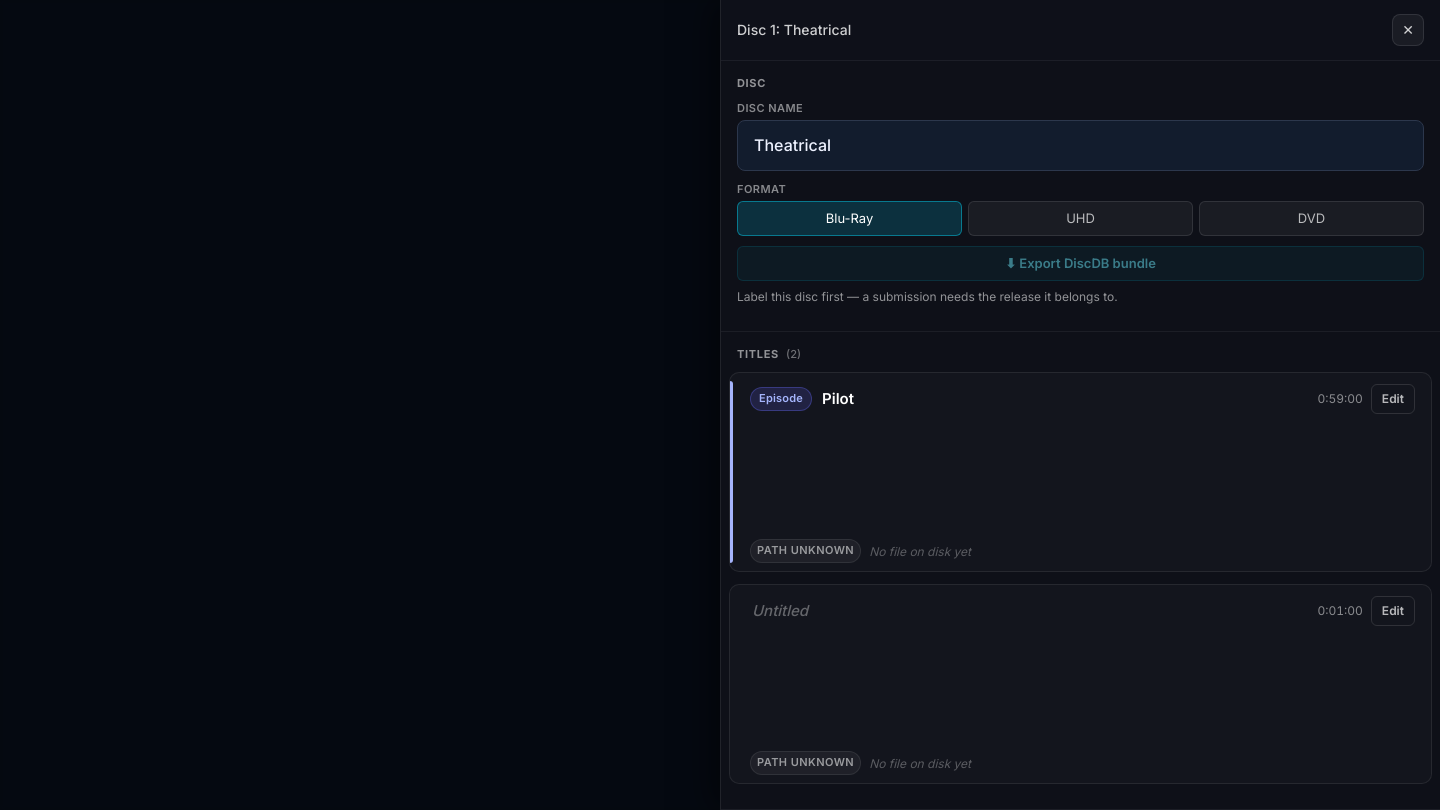
Test: LibraryDiscDrawerComponent (Phase 4) › #601 view/edit toggle › clicking Done collapses back to display mode
The image size is (1440, 810).
Click the button with class "library-disc-drawer__title-edit-btn" next to "0:59:00" at (1393, 399), box [1371, 384, 1415, 413]
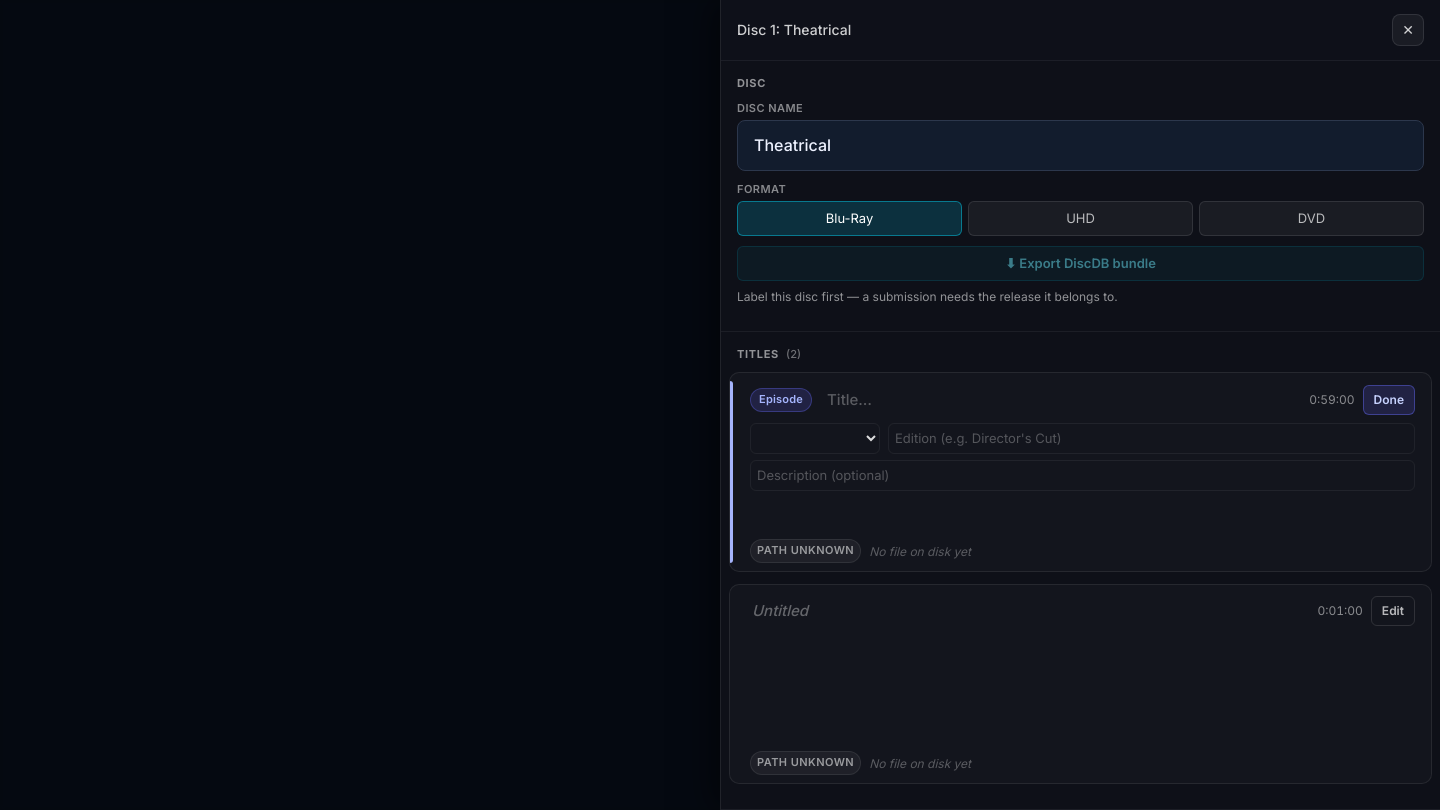
Click the button with class "library-disc-drawer__title-edit-btn--done" at (1389, 400), box [1363, 385, 1415, 414]
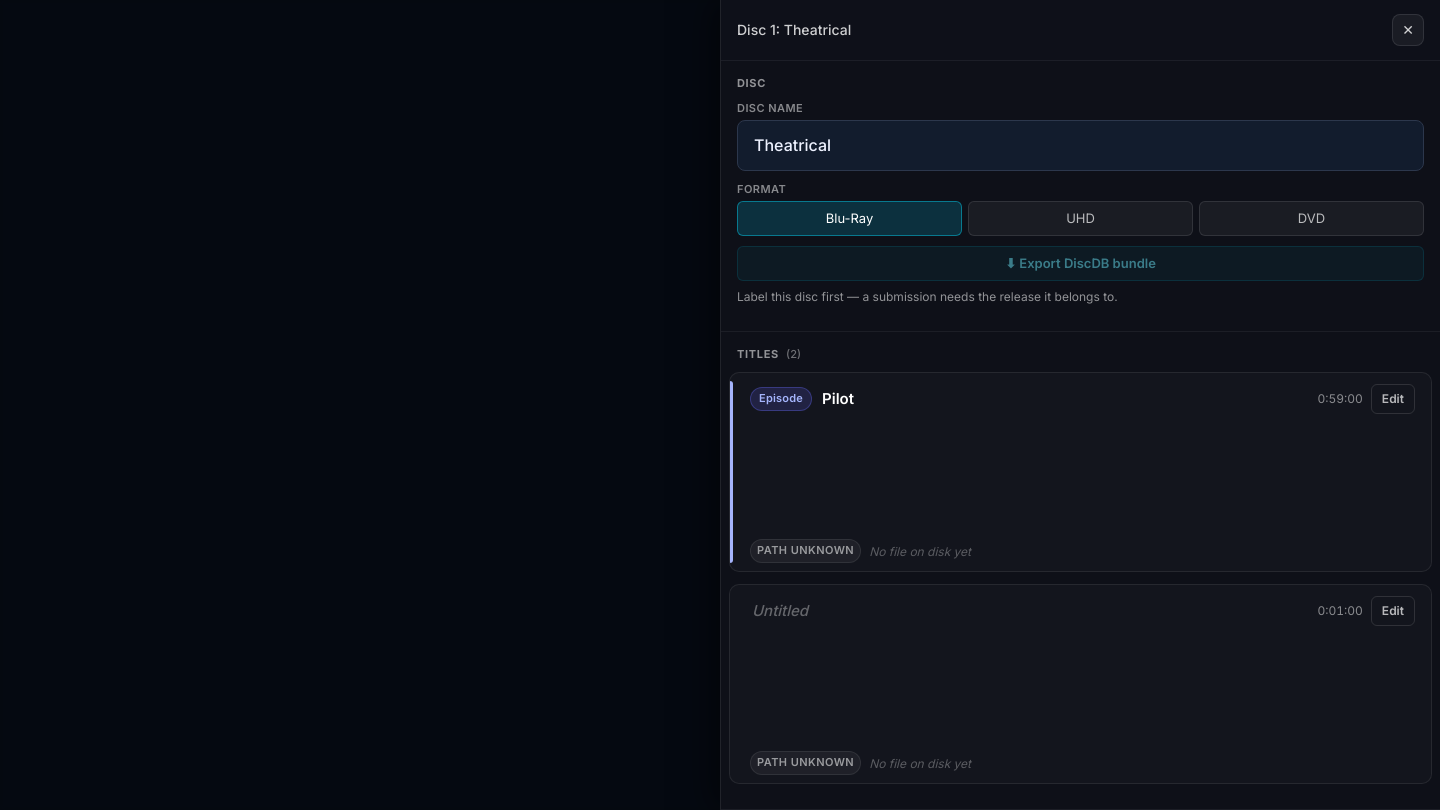
Expected: the text "Pilot" is shown, [822, 388, 854, 408]
